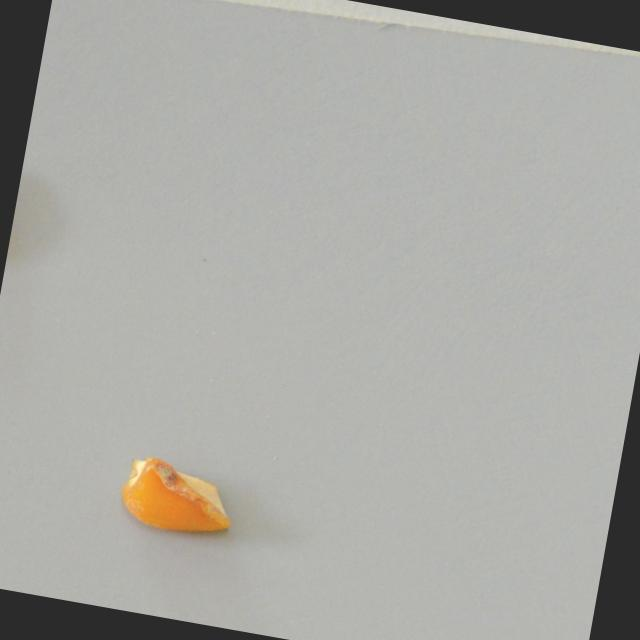dañado: (109, 445, 242, 553)
